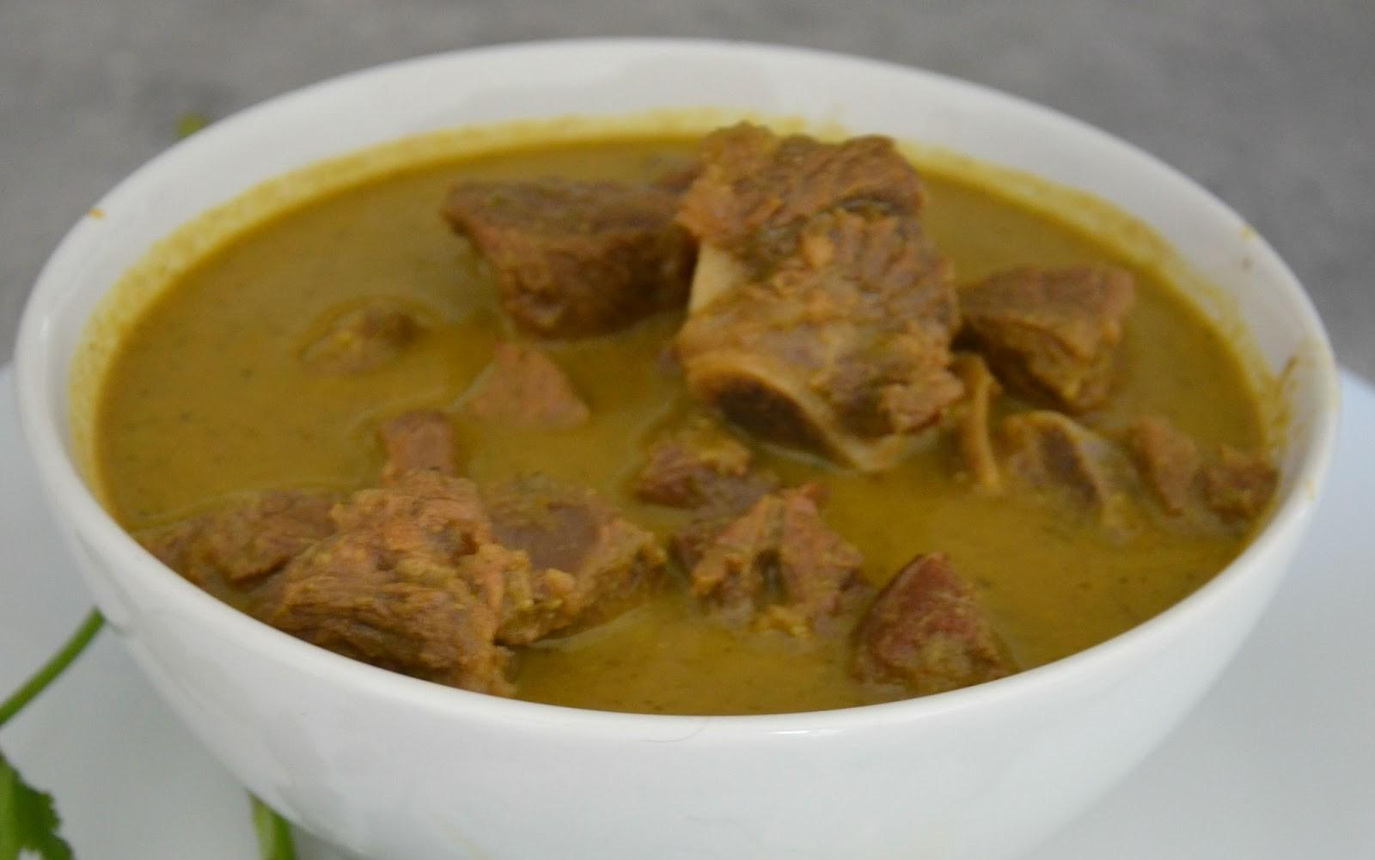MuttonCurry: (90, 123, 1262, 723)
